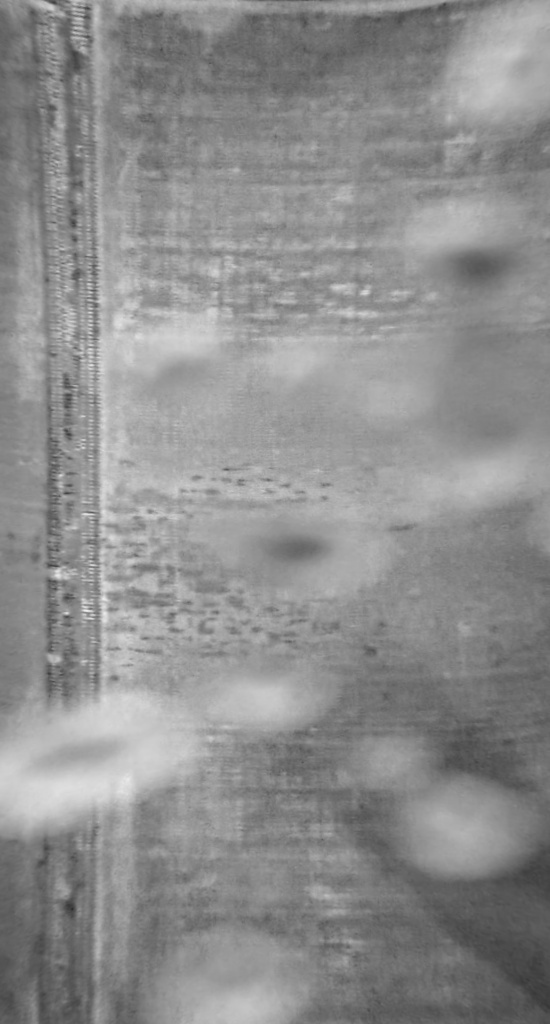splice: (23, 1, 120, 1023)
